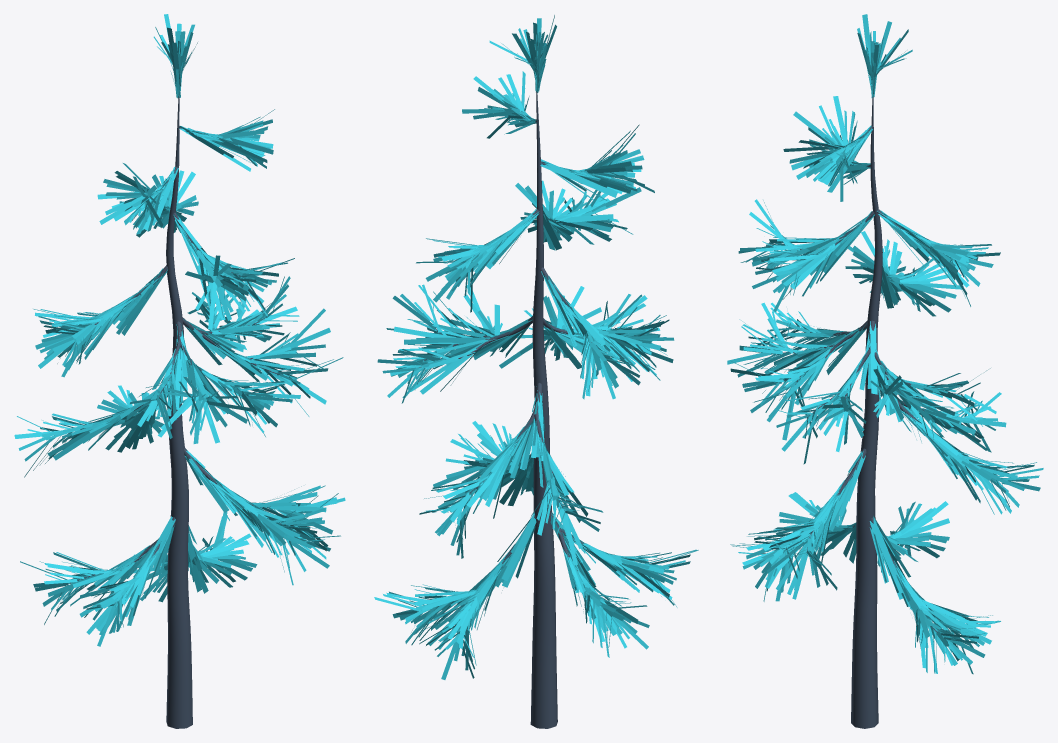
The model's file is tree5.fbx.
3 views of the same model, side by side, from view 1: azimuth 30°, elevation 25°; view 2: azimuth 150°, elevation 25°; view 3: azimuth 270°, elevation 25° (orthographic).
Parts seen in each view (by area): view 1: leaves.004, tree.004; view 2: leaves.004, tree.004; view 3: leaves.004, tree.004.
Boxes of the visible parts, x1=… form: leaves.004: x1=14, y1=14, x2=345, y2=646; tree.004: x1=66, y1=96, x2=291, y2=728; leaves.004: x1=374, y1=15, x2=698, y2=679; tree.004: x1=419, y1=91, x2=591, y2=728; leaves.004: x1=727, y1=14, x2=1043, y2=674; tree.004: x1=780, y1=96, x2=962, y2=728.
Size of the model in its own units: 742 by 1873 by 764.
